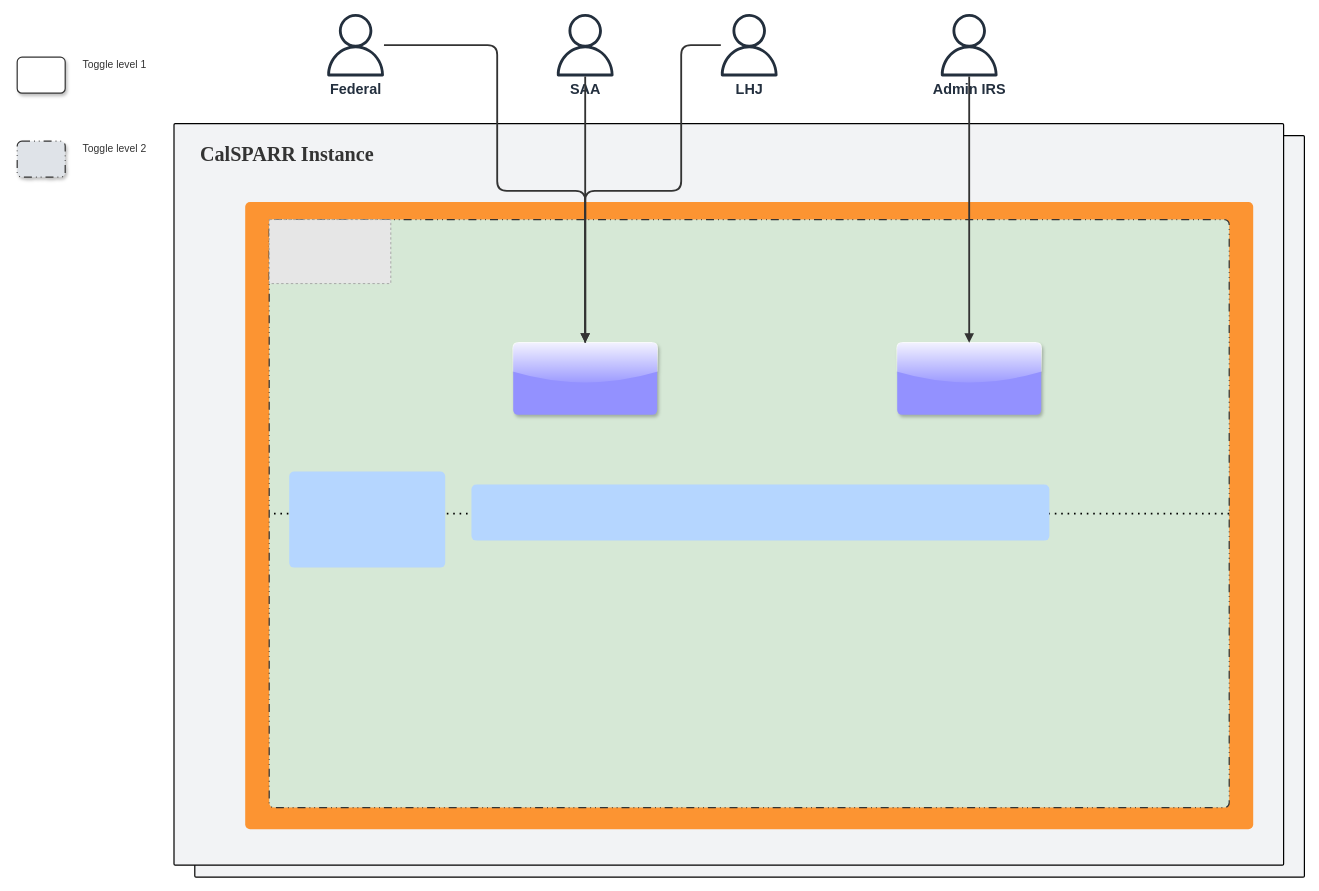
Some shapes in this 1319 by 891 pixel diagram are drawn without their labels. Grey dashed boxes stand in for pictures. Here are the shapes that lost their labels. From the top down, the centre of each, then its label:
pixel 585 380: CalSPARR UI
pixel 969 380: Admin UI
pixel 366 519: IAM
pixel 760 512: API Gateway
